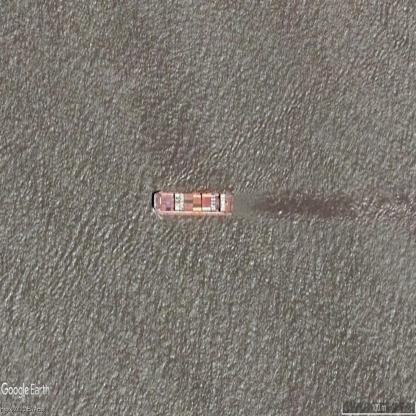ship: (151, 190, 234, 219)
